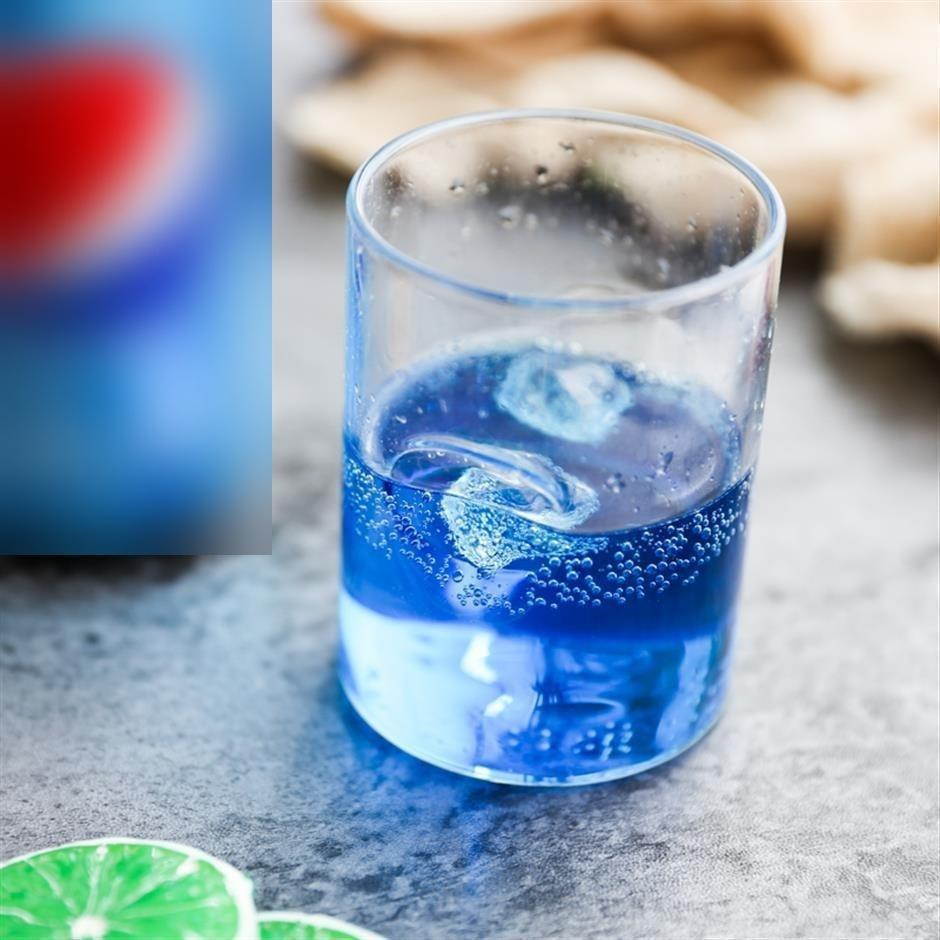glass-normal: (336, 107, 789, 794)
